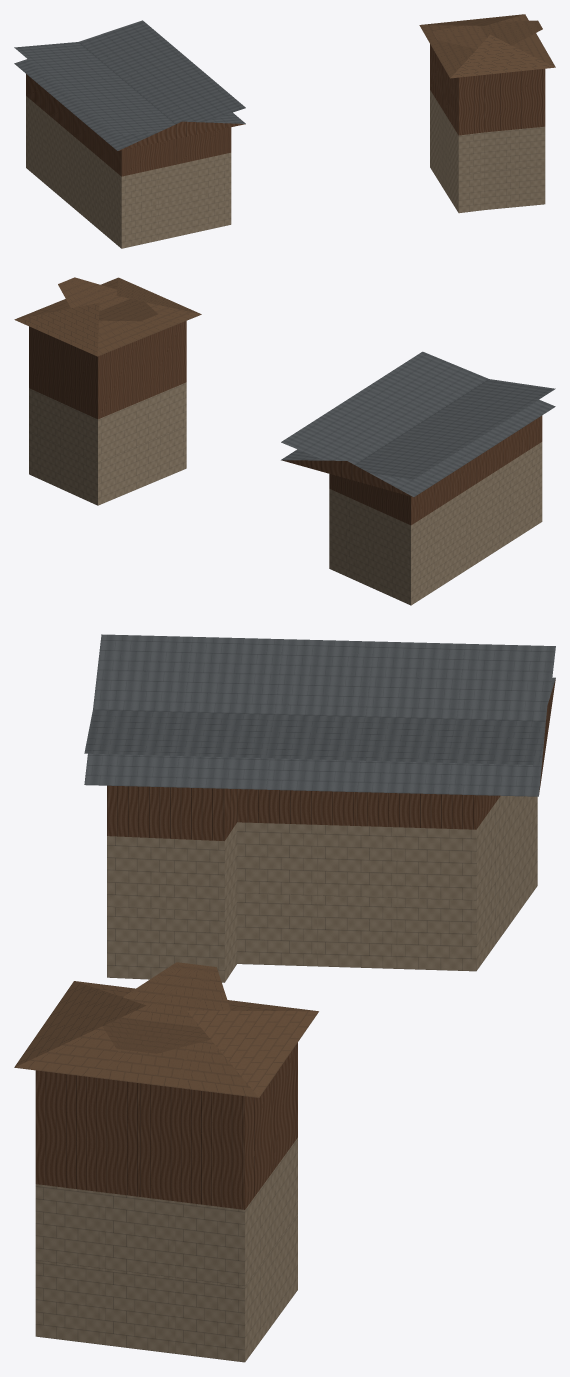
The model's file is bld_c36_-26_442.gltf.
3 views of the same model, one above another, from view 1: azimuth 30°, elevation 25°; view 2: azimuth 150°, elevation 25°; view 3: azimuth 270°, elevation 25° (orthographic). The views are drawn at different scales.
Visible parts, largest first — view 1: bld_c36_-26_442; view 2: bld_c36_-26_442; view 3: bld_c36_-26_442.
Part boxes in pixels (x1=…): bld_c36_-26_442: x1=14, y1=14, x2=555, y2=248; bld_c36_-26_442: x1=14, y1=277, x2=555, y2=605; bld_c36_-26_442: x1=14, y1=634, x2=555, y2=1362.
Bounding box in the file's own units: 29.22 × 9.8 × 15.6.
Materials: 5 (5 with a texture image).
